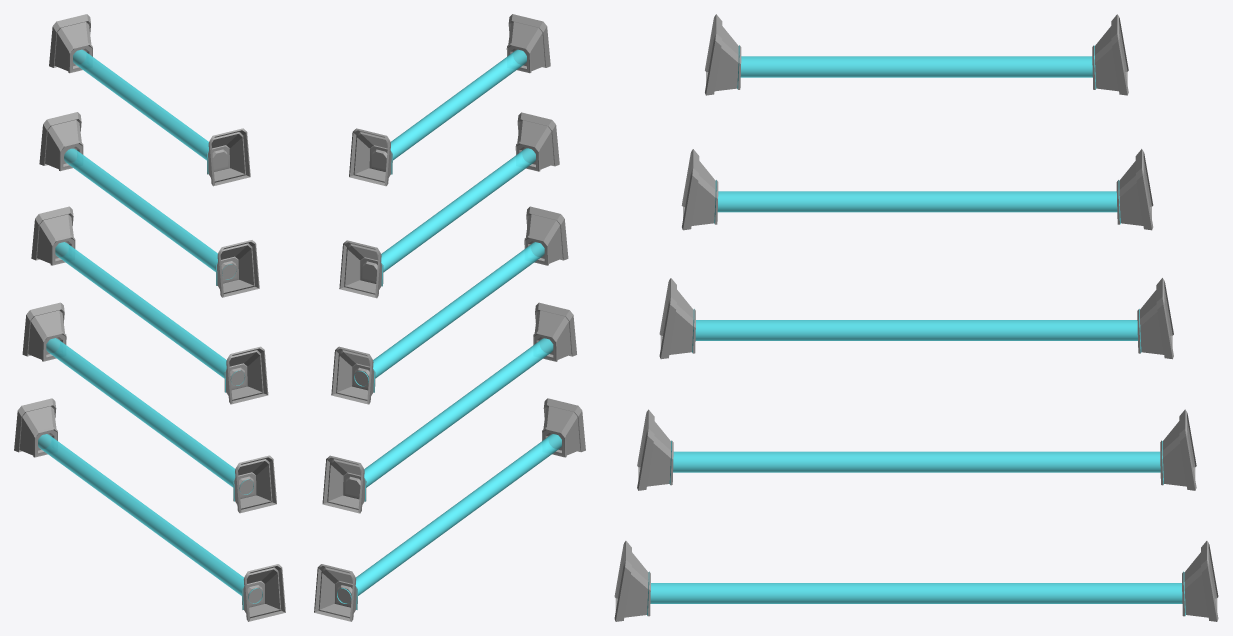
Rendered from L1_RM3_door version2 with UVs.fbx.
3 views of the same model, side by side, from view 1: azimuth 30°, elevation 25°; view 2: azimuth 150°, elevation 25°; view 3: azimuth 270°, elevation 25° (orthographic). The views are drawn at different scales.
Parts seen in each view (by area): view 1: lab_door_room3_version2; view 2: lab_door_room3_version2; view 3: lab_door_room3_version2.
Boxes of the visible parts, bbox=[...] form: lab_door_room3_version2: bbox=[14, 14, 285, 621]; lab_door_room3_version2: bbox=[314, 14, 585, 621]; lab_door_room3_version2: bbox=[614, 14, 1218, 621].
Bounding box in the file's own units: 52.16 × 603 × 563.
